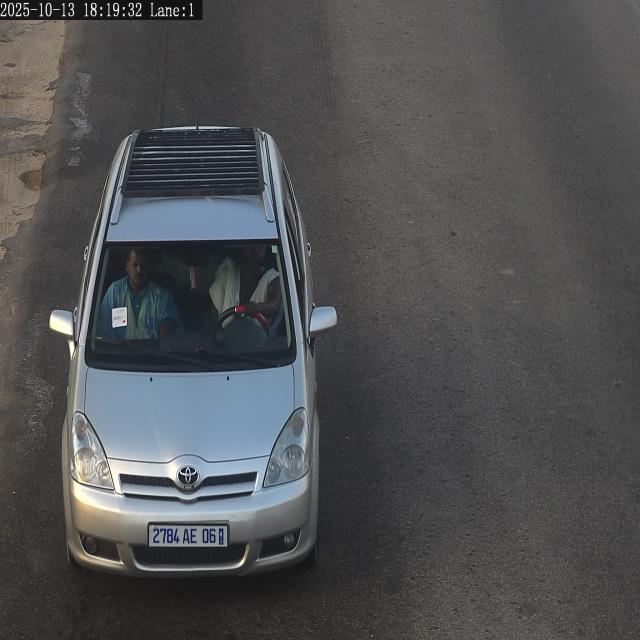BUS: (149, 524, 228, 547)
